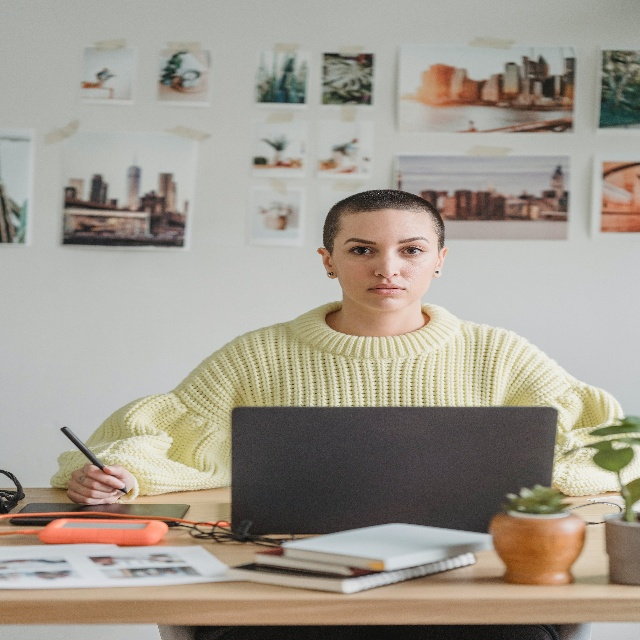Sin_guantes: (66, 463, 134, 505)
